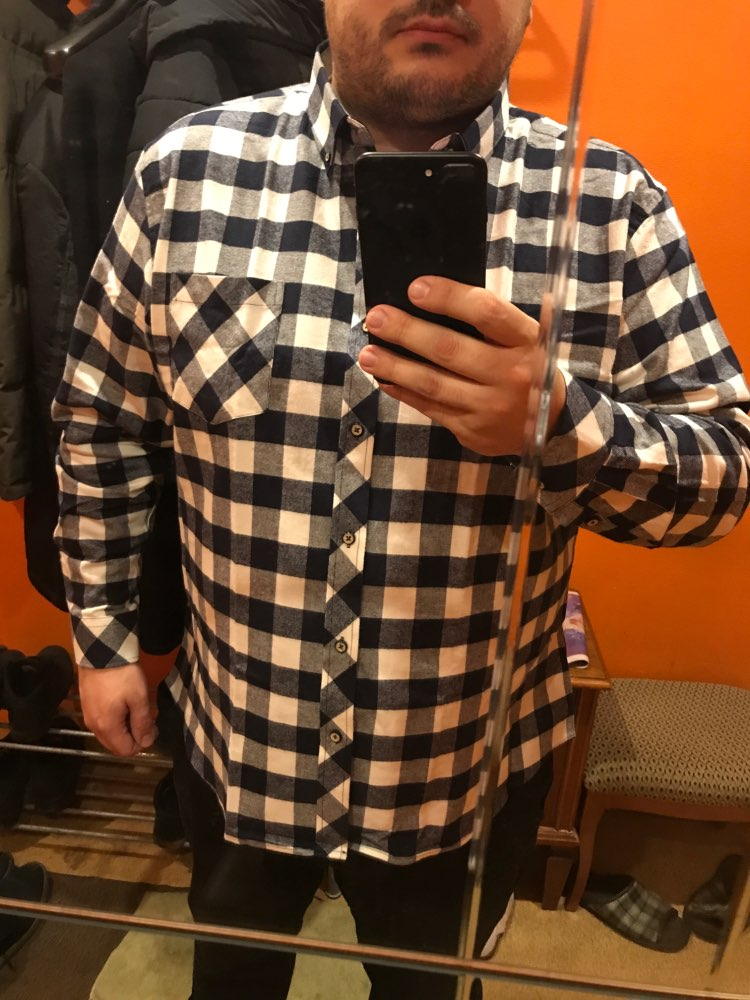shirts: (62, 67, 750, 865)
